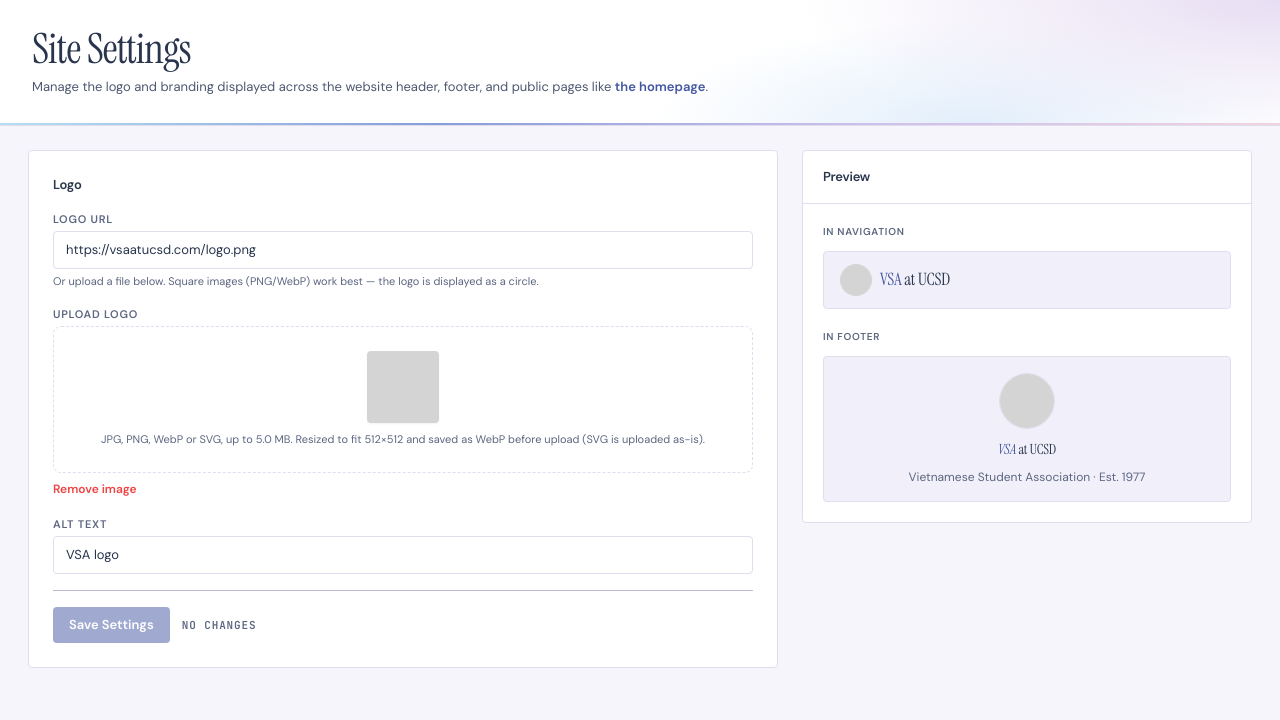
Test: Admin Settings shared form shell (#258) › discards an unsubmitted change without writing to the database
Replace the text in the field labelled "Alt Text" with "Other alt text" at (403, 555), box [53, 536, 753, 574]
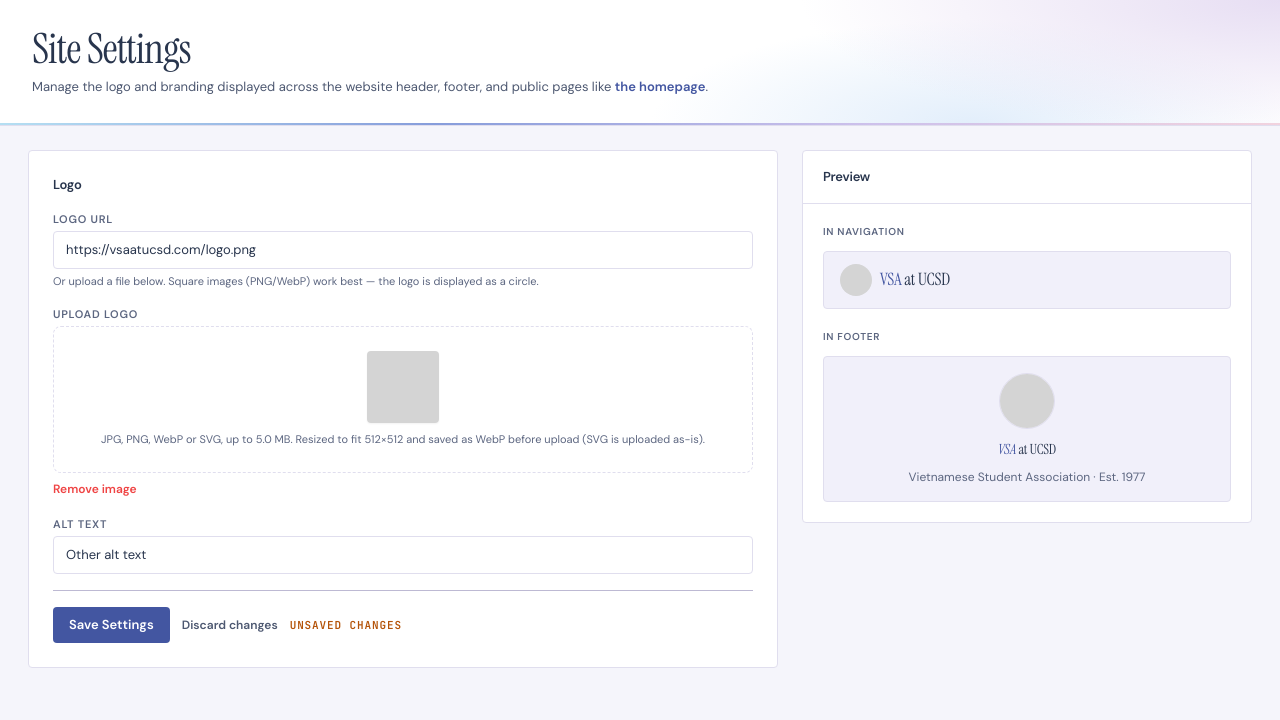
Click the button "Discard changes".
click(230, 625)  # box [182, 617, 278, 633]
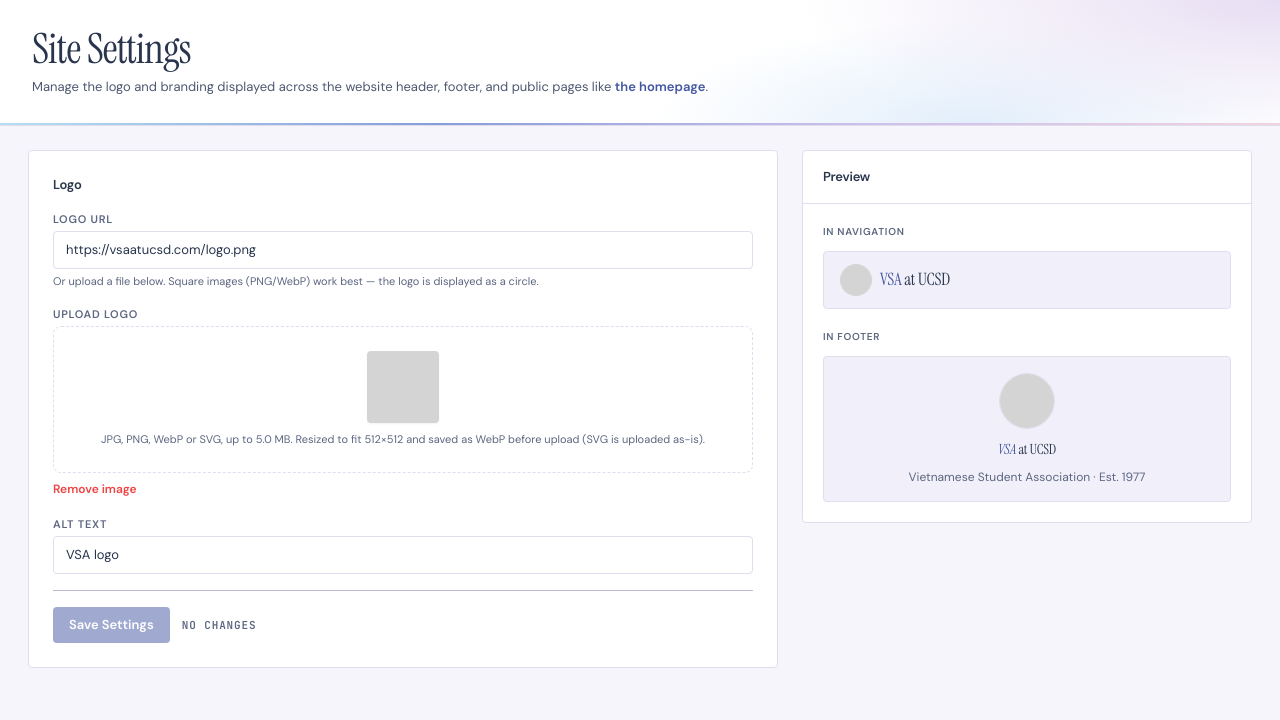
Check: the field labelled "Alt Text" holds "VSA logo", box [53, 536, 753, 574]
Check: the button "Save Settings" is disabled, box [53, 607, 170, 643]
